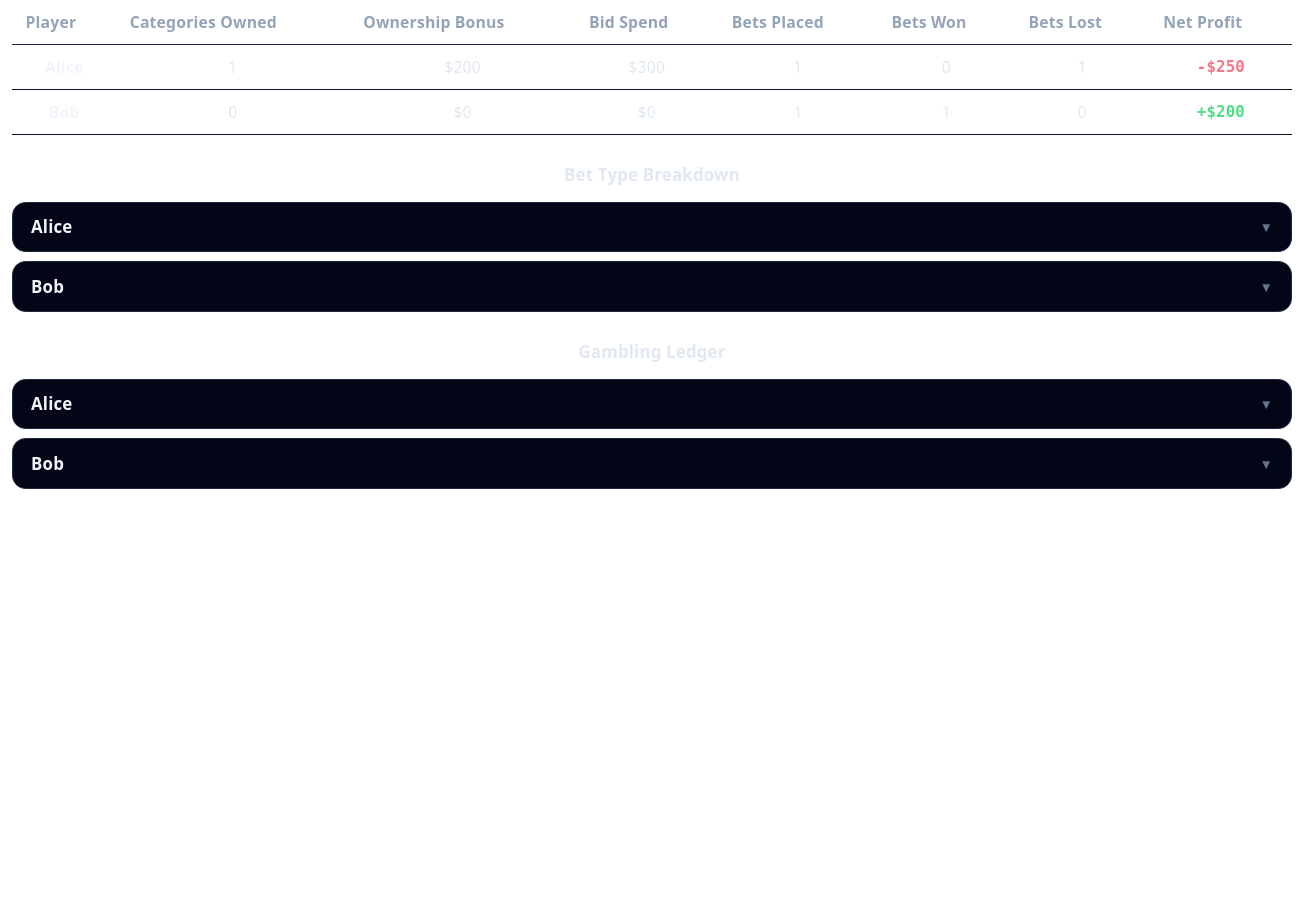
Test: GamblingAnalytics › renders correctly with populated ledger › renders exactly the four ledger headers and no Player column
Step 1. Click the button "Alice ▼" below "Gambling Ledger" → point(52, 403), box [13,380,1291,428]
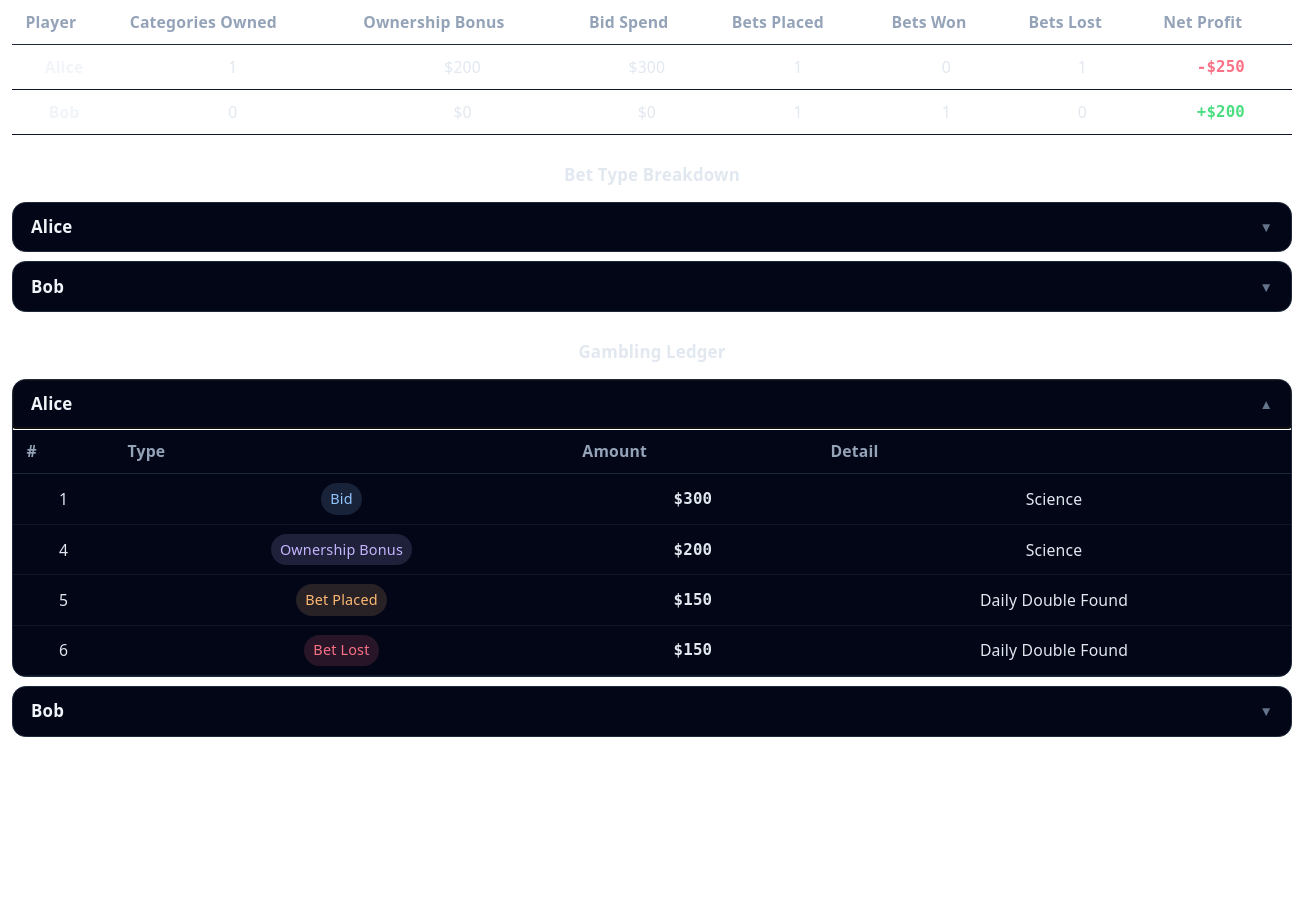
Expected: the column headings read "#", "Type", "Amount", "Detail", in this order, [13,429,114,474]; [114,429,569,474]; [569,429,817,474]; [817,429,1291,474]
